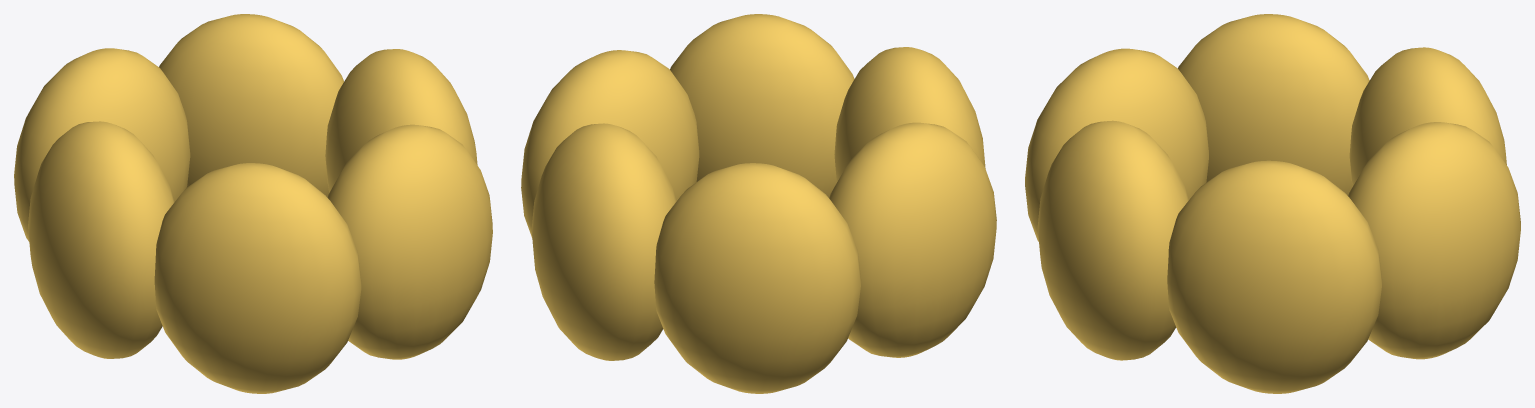
File: crop_5_stage_0.fbx
3 renders of one model, left to right at view 1: azimuth 30°, elevation 25°; view 2: azimuth 150°, elevation 25°; view 3: azimuth 270°, elevation 25°, orthographic.
Parts seen in each view (by area): view 1: crop_5_stage_0; view 2: crop_5_stage_0; view 3: crop_5_stage_0.
Boxes of the visible parts, bbox=[...] form: crop_5_stage_0: bbox=[14, 14, 492, 393]; crop_5_stage_0: bbox=[521, 14, 996, 393]; crop_5_stage_0: bbox=[1025, 14, 1520, 393].
Bounding box in the file's own units: 0.07 × 0.035 × 0.07.
Materials: 1 (1 with a texture image).
